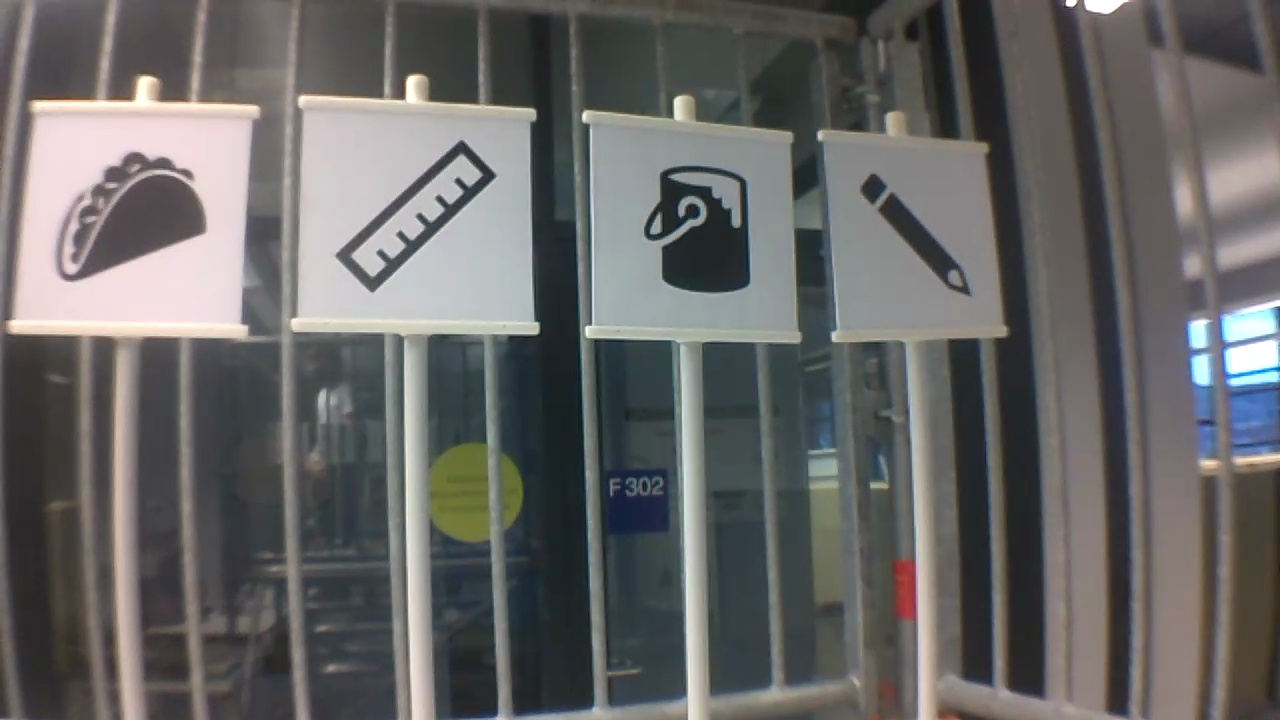bucket: (639, 163, 756, 299)
pencil: (850, 168, 976, 303)
ruler: (327, 134, 499, 301)
taco: (51, 143, 214, 285)
